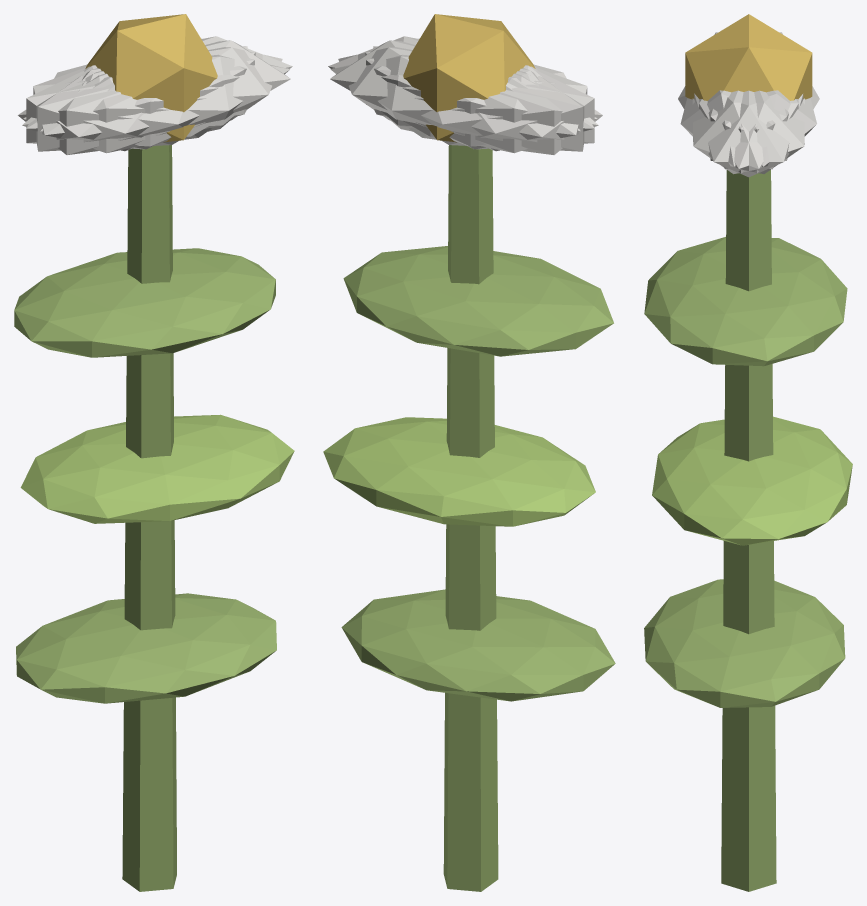
File: ocimum-basilicum.glb
3 renders of one model, left to right at view 1: azimuth 30°, elevation 25°; view 2: azimuth 150°, elevation 25°; view 3: azimuth 270°, elevation 25°, orthographic.
Parts seen in each view (by area): view 1: stem, leaf2, leaf0, leaf1, center, petal1, petal6, petal2, petal5, petal7, petal0, petal4 (+2 smaller); view 2: stem, leaf2, leaf1, leaf0, center, petal8, petal3, petal7, petal4, petal2, petal0, petal5 (+2 smaller); view 3: stem, leaf1, leaf2, leaf0, center, petal0, petal5, petal4, petal8, petal1.
Part boxes in pixels (x1,y1,x2,y2): stem: (122, 145, 176, 891); leaf2: (14, 248, 275, 357); leaf0: (16, 593, 276, 703); leaf1: (20, 414, 294, 523); center: (85, 14, 217, 142); petal1: (22, 54, 289, 153); petal6: (18, 66, 211, 154); petal2: (36, 46, 247, 151); petal5: (40, 47, 282, 146); petal7: (26, 52, 255, 149); petal0: (85, 40, 290, 136); petal4: (23, 36, 292, 128); stem: (443, 145, 498, 891); leaf2: (343, 246, 613, 356); leaf1: (323, 417, 595, 526); leaf0: (341, 589, 615, 701); center: (403, 14, 535, 142); petal8: (330, 54, 598, 153); petal3: (409, 66, 602, 154); petal7: (373, 46, 584, 151); petal4: (338, 47, 580, 146); petal2: (365, 52, 594, 149); petal0: (330, 40, 535, 136); petal5: (328, 36, 597, 128); stem: (721, 170, 776, 891); leaf1: (652, 416, 852, 545); leaf2: (644, 237, 847, 366); leaf0: (644, 579, 845, 707); center: (685, 14, 812, 100); petal0: (694, 90, 803, 177); petal5: (692, 90, 798, 174); petal4: (699, 90, 804, 173); petal8: (708, 90, 816, 166); petal1: (680, 90, 788, 166).
Size of the model in its own units: 0.1479 by 0.4511 by 0.1005.
